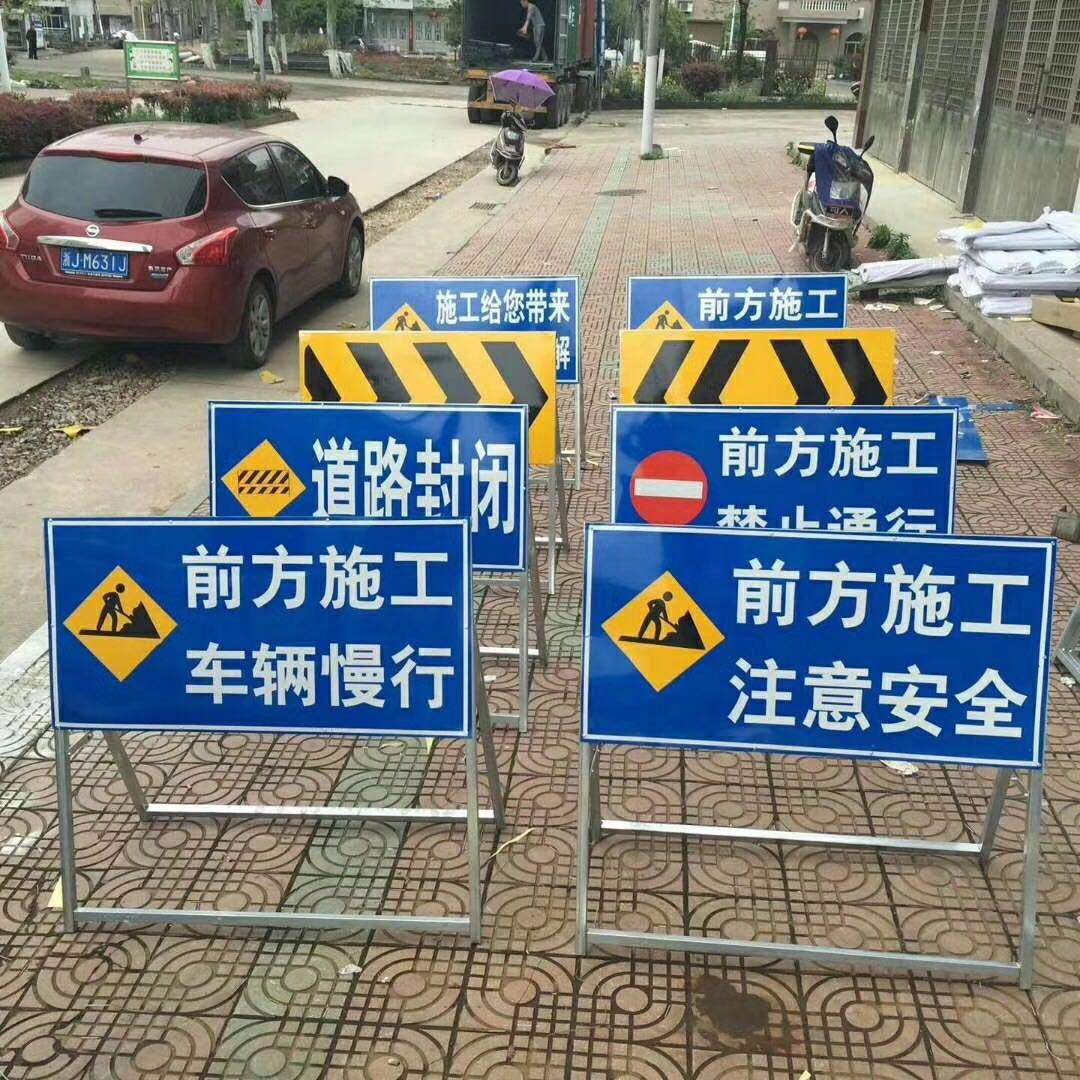sign: (585, 527, 1052, 981), (40, 515, 495, 950), (209, 406, 546, 518), (626, 416, 957, 530), (634, 281, 845, 329), (370, 284, 577, 325)
